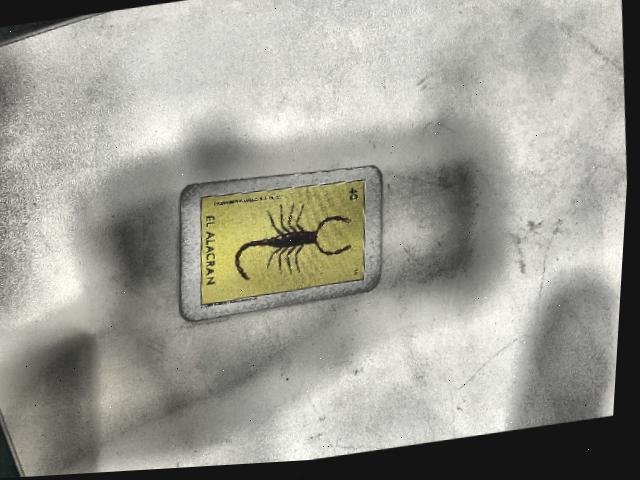El Alacran: (203, 184, 367, 307)
